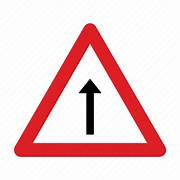forward: (14, 23, 167, 157)
